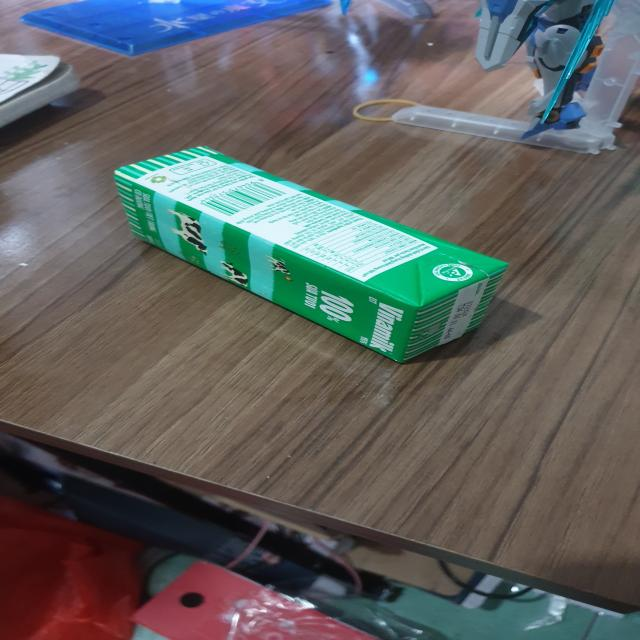Vina: (114, 145, 519, 369)
